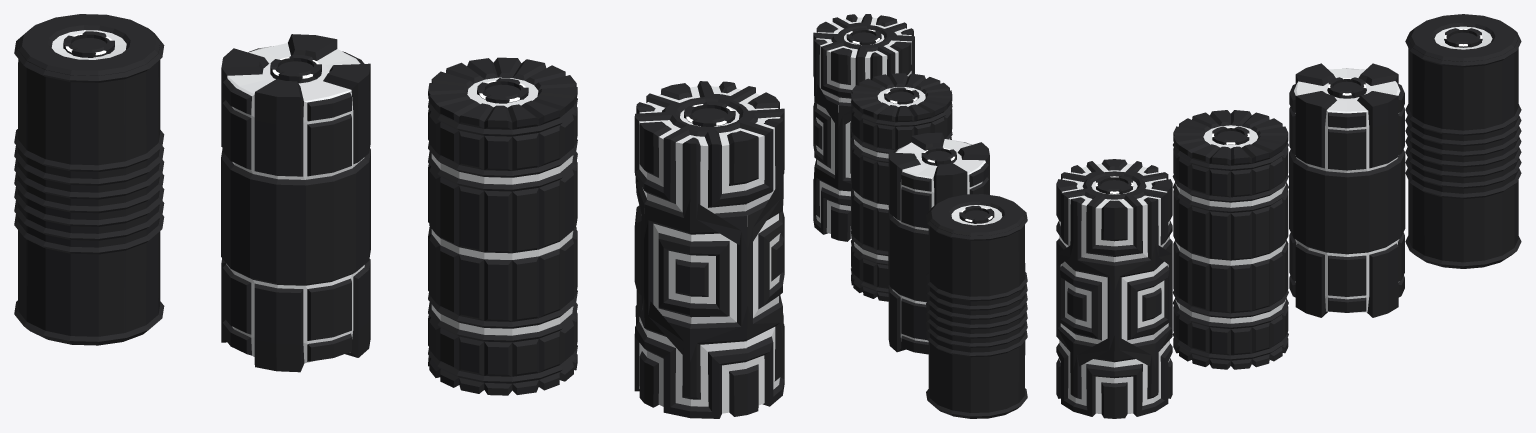
Rendered from barrels.glb.
3 renders of one model, left to right at view 1: azimuth 30°, elevation 25°; view 2: azimuth 150°, elevation 25°; view 3: azimuth 270°, elevation 25°, orthographic. The views are drawn at different scales.
Visible parts, largest first — view 1: OilBarrel2, OilBarrel3, OilBarrel1, OilBarrel4; view 2: OilBarrel4, OilBarrel2, OilBarrel1, OilBarrel3; view 3: OilBarrel2, OilBarrel3, OilBarrel1, OilBarrel4.
Part boxes in pixels (box(x1,y1,x2,y2)): OilBarrel2: box(428, 57, 577, 395); OilBarrel3: box(634, 81, 784, 418); OilBarrel1: box(221, 34, 370, 372); OilBarrel4: box(14, 14, 164, 345); OilBarrel4: box(926, 194, 1027, 418); OilBarrel2: box(850, 73, 952, 301); OilBarrel1: box(888, 132, 989, 354); OilBarrel3: box(813, 14, 914, 241); OilBarrel2: box(1172, 110, 1288, 369); OilBarrel3: box(1056, 159, 1172, 418); OilBarrel1: box(1289, 63, 1405, 317); OilBarrel4: box(1405, 14, 1521, 268).
Size of the model in its own units: 400 by 200 by 400.
Materials: 1 (1 with a texture image).
